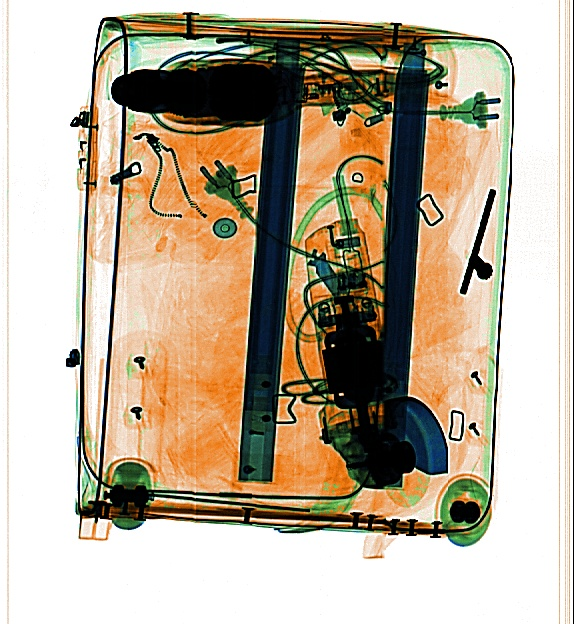drill: (111, 52, 425, 135)
grinder: (297, 217, 457, 510)
